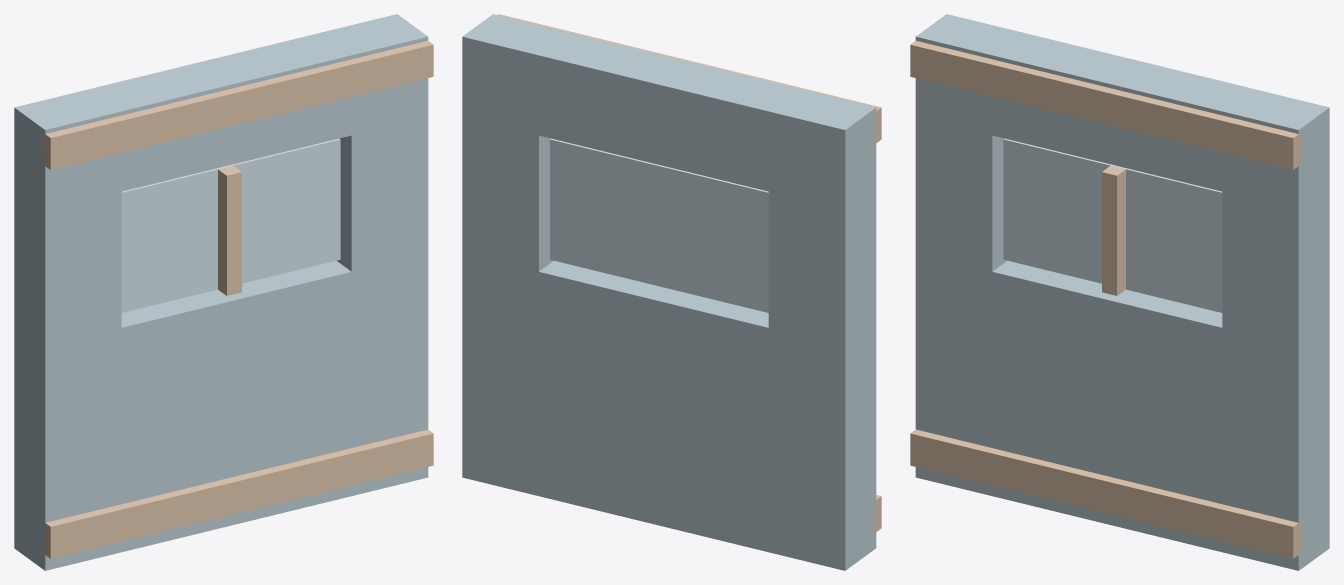
Rendered from wall-metal-window.glb.
3 renders of one model, left to right at view 1: azimuth 30°, elevation 25°; view 2: azimuth 150°, elevation 25°; view 3: azimuth 330°, elevation 25°, orthographic.
Parts seen in each view (by area): view 1: sill, left_jamb, right_jamb, pane, lintel, top_trim, trim, crossbar; view 2: sill, left_jamb, right_jamb, pane, lintel, top_trim; view 3: sill, right_jamb, left_jamb, pane, lintel, trim, top_trim, crossbar.
Boxes of the visible parts, left/top/right/bottom form: sill: left=121, top=260, right=351, bottom=551; left_jamb: left=14, top=89, right=121, bottom=570; right_jamb: left=321, top=14, right=428, bottom=495; pane: left=121, top=138, right=340, bottom=312; lintel: left=91, top=32, right=351, bottom=191; top_trim: left=42, top=41, right=433, bottom=169; trim: left=45, top=429, right=433, bottom=558; crossbar: left=218, top=165, right=241, bottom=295; sill: left=539, top=260, right=768, bottom=552; left_jamb: left=768, top=89, right=876, bottom=570; right_jamb: left=462, top=14, right=569, bottom=495; pane: left=550, top=138, right=768, bottom=312; lintel: left=539, top=33, right=799, bottom=191; top_trim: left=498, top=14, right=881, bottom=145; sill: left=992, top=260, right=1222, bottom=551; right_jamb: left=1222, top=89, right=1329, bottom=570; left_jamb: left=915, top=14, right=1022, bottom=495; pane: left=1003, top=138, right=1222, bottom=312; lintel: left=992, top=32, right=1252, bottom=191; trim: left=910, top=429, right=1301, bottom=558; top_trim: left=910, top=41, right=1301, bottom=169; crossbar: left=1102, top=165, right=1125, bottom=295.
Size of the model in its own units: 1 by 1.1 by 0.165.
